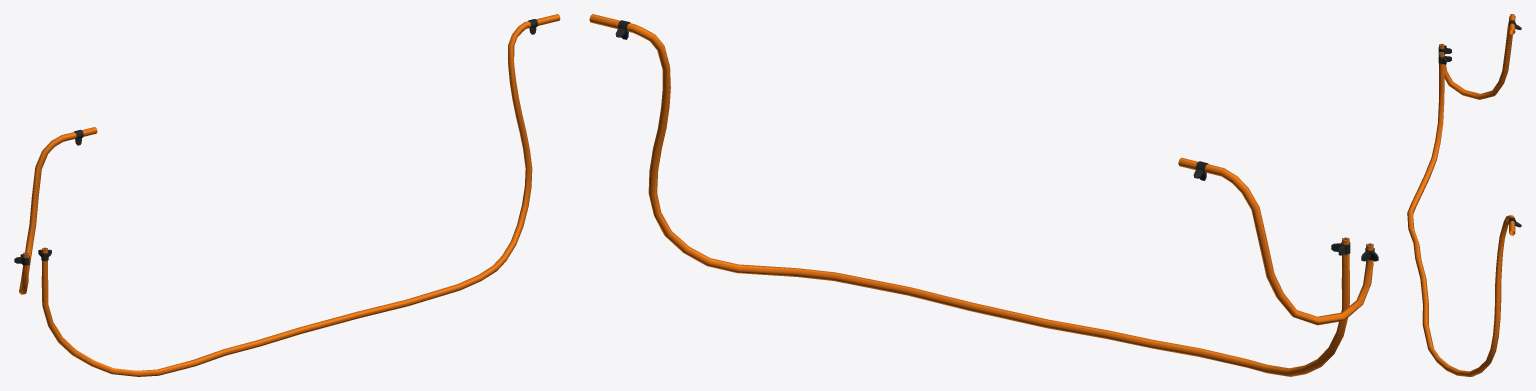
File: jsf_GasRange_19b.fbx
The picture shows the model from 3 angles, left to right: view 1: azimuth 30°, elevation 25°; view 2: azimuth 150°, elevation 25°; view 3: azimuth 270°, elevation 25°; orthographic projection. The views are drawn at different scales.
Parts seen in each view (by area): view 1: GasHose; view 2: GasHose; view 3: GasHose.
Boxes of the visible parts, x1,y1,x2,y2 form: GasHose: (14, 14, 560, 376); GasHose: (589, 14, 1378, 376); GasHose: (1407, 14, 1521, 376).
Bounding box in the file's own units: 171 × 58.47 × 32.78.
